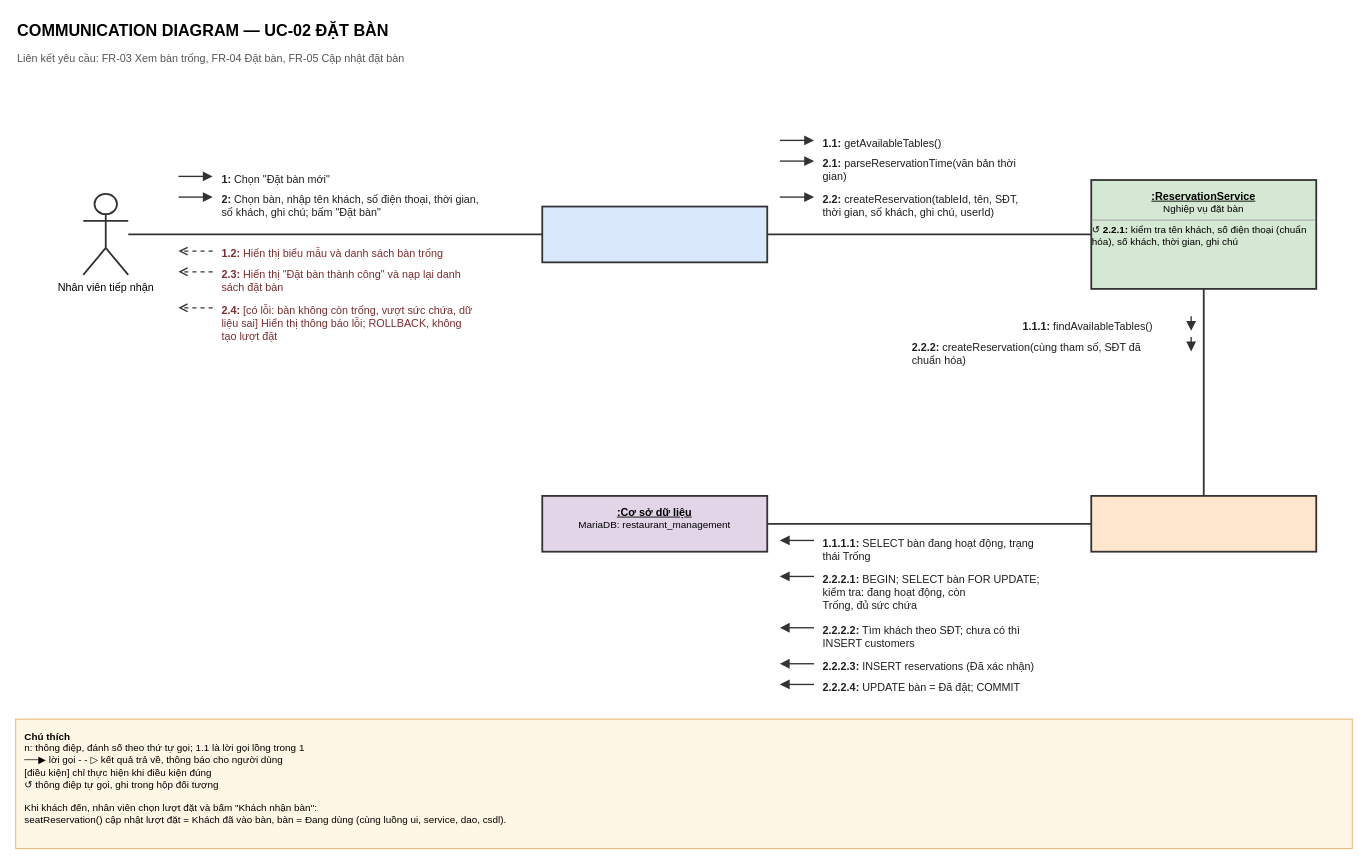
This 1368x864 diagram has some shape labels left out. The box of each missing label's shape, as (x1, y1, x2, y2) in pixels:
:ReservationDAO Truy cập dữ liệu: (1090, 495, 1317, 552)
:ReservationFrame Màn hình đặt bàn: (541, 205, 768, 263)
